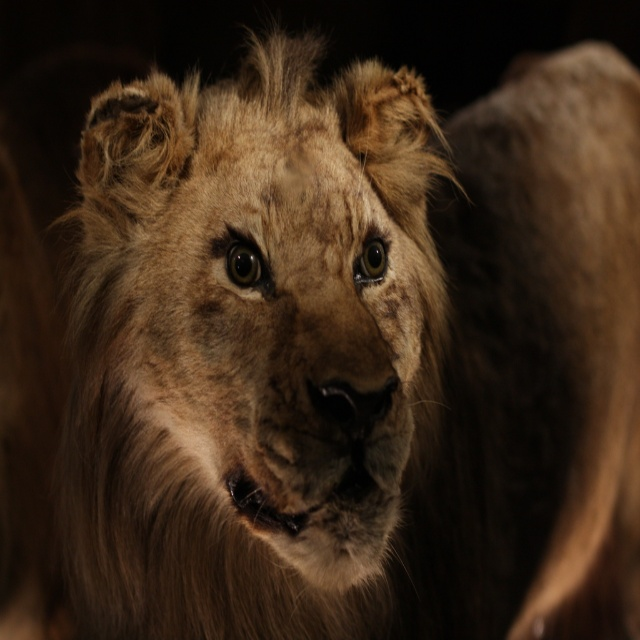Lion: (37, 20, 640, 639)
